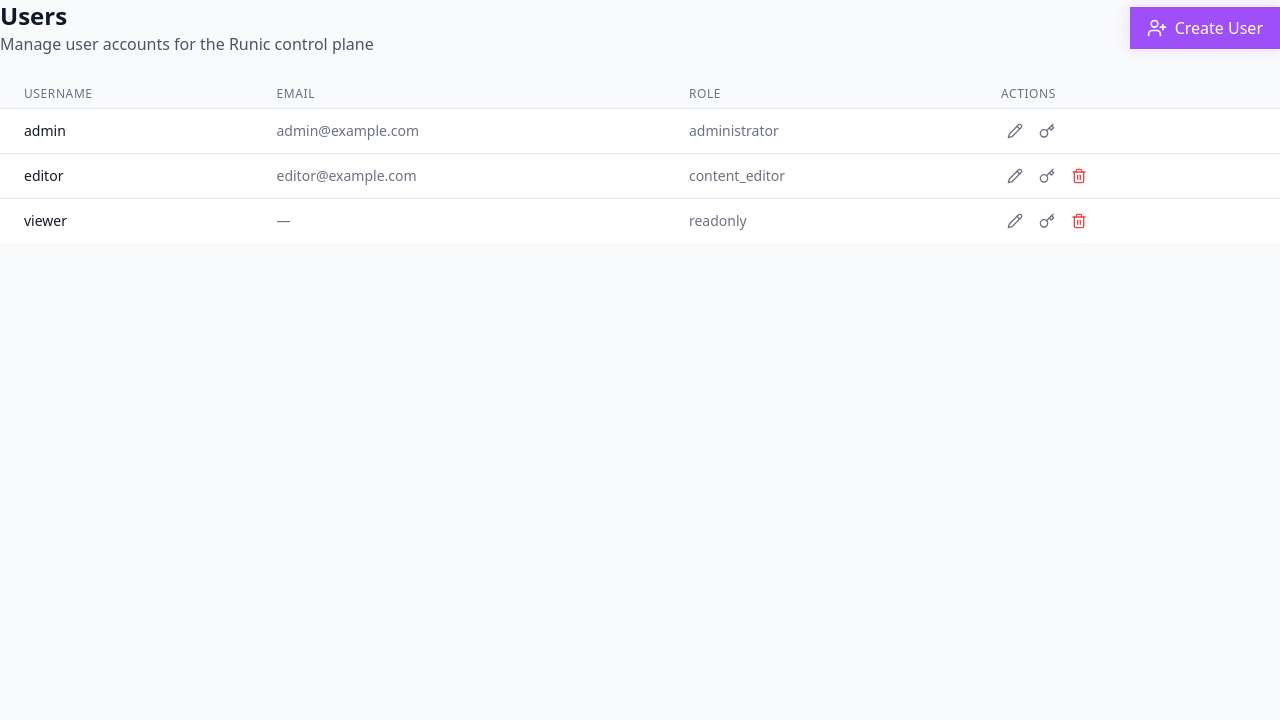
Scenario: Users Page › opens edit user modal
This screenshot has width=1280, height=720.
Expected: the text "editor" is shown, [0,154,252,198]
Click the edit button for the editor user row
Click the 4th button.
click(1015, 176)  # box [1001,162,1029,190]
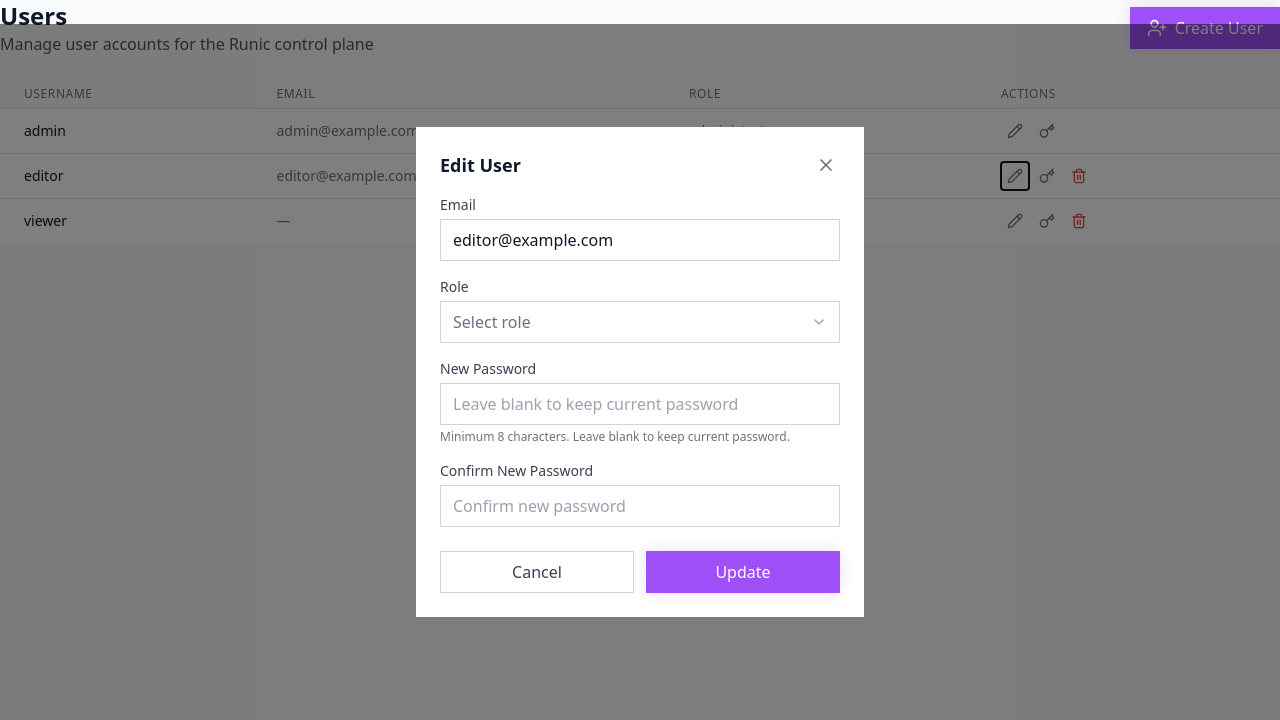
Expected: the heading "Edit User" is shown, [440,151,521,179]
